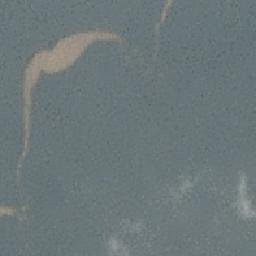debris: (18, 54, 31, 173), (76, 27, 115, 56), (47, 37, 74, 74), (31, 43, 45, 86), (1, 206, 19, 213)
